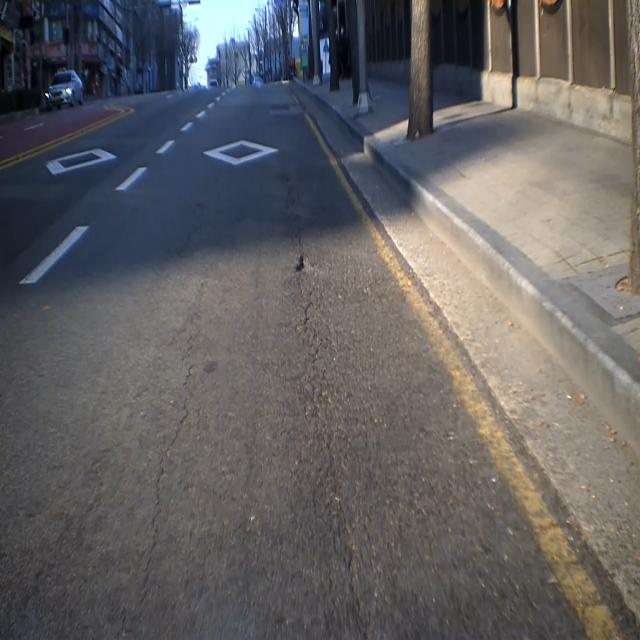Pothole: (289, 247, 322, 286)
